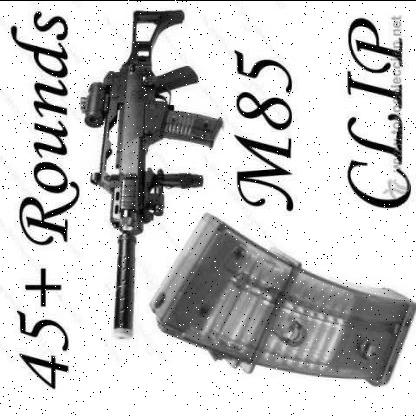rifle: (68, 1, 226, 360)
